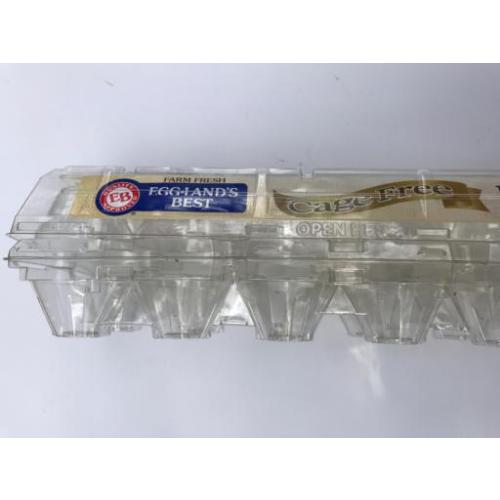plastic: (12, 164, 500, 343)
